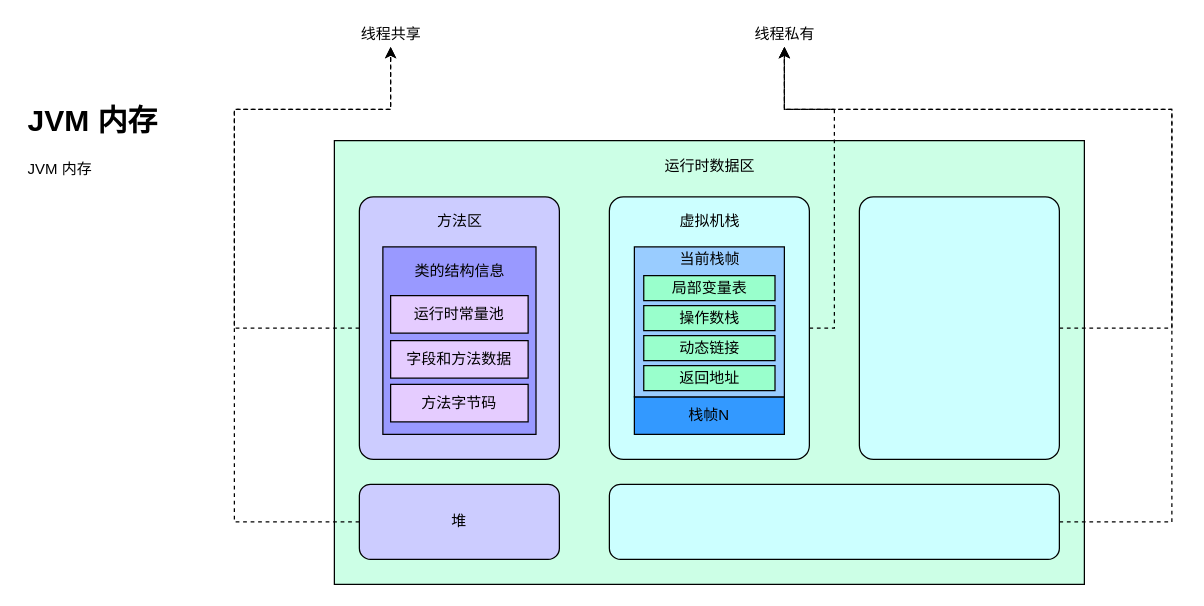
This 1204x606 diagram has some shape labels left out. The shapes that lost their labels are listed below. From the top down, each one's centre as x and y in pixels, then its label:
At point (958, 327): "本地方法栈".
At point (833, 521): "程序计数器".
